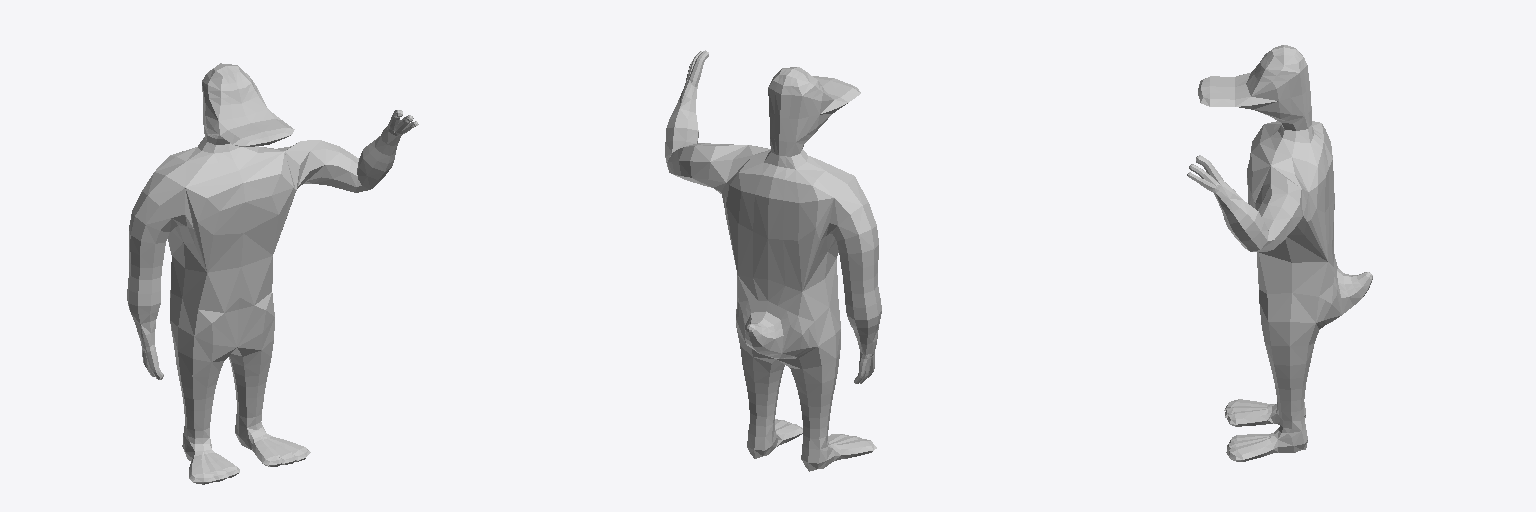
The model's file is canard_qui_salue_000005.obj.
The picture shows the model from 3 angles: view 1: azimuth 30°, elevation 25°; view 2: azimuth 150°, elevation 25°; view 3: azimuth 270°, elevation 25°; orthographic projection.
Parts seen in each view (by area): view 1: Cube; view 2: Cube; view 3: Cube.
Boxes of the visible parts, x1=… form: Cube: x1=127, y1=63, x2=418, y2=484; Cube: x1=665, y1=50, x2=881, y2=471; Cube: x1=1187, y1=45, x2=1372, y2=461.
Bounding box in the file's own units: 1.78 × 2.8 × 1.21.